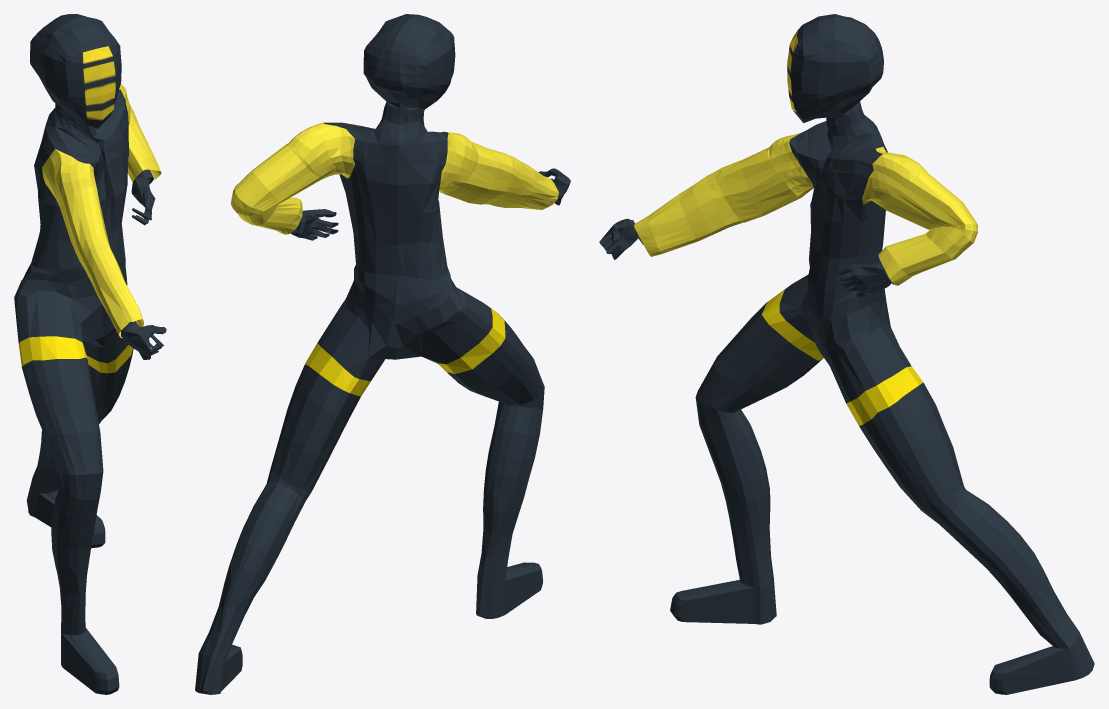
File: Sentry_WR_000015.obj
3 views of the same model, side by side, from view 1: azimuth 30°, elevation 25°; view 2: azimuth 150°, elevation 25°; view 3: azimuth 270°, elevation 25° (orthographic). The views are drawn at different scales.
Parts seen in each view (by area): view 1: Cube; view 2: Cube; view 3: Cube.
Boxes of the visible parts, x1,y1,x2,y2 form: Cube: (14, 14, 166, 694); Cube: (195, 14, 570, 694); Cube: (599, 14, 1094, 694).
Bounding box in the file's own units: 1.18 × 3.61 × 2.59.
